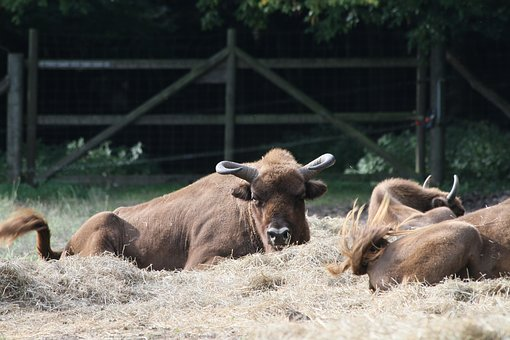zubr: (7, 128, 335, 284), (369, 148, 482, 227)
